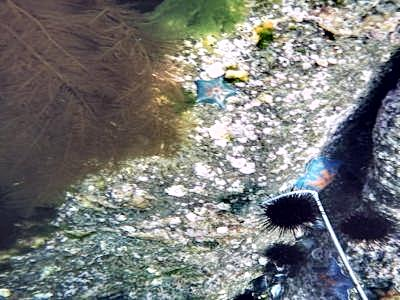urchin: (256, 192, 316, 227), (343, 213, 388, 241), (266, 241, 304, 263)
